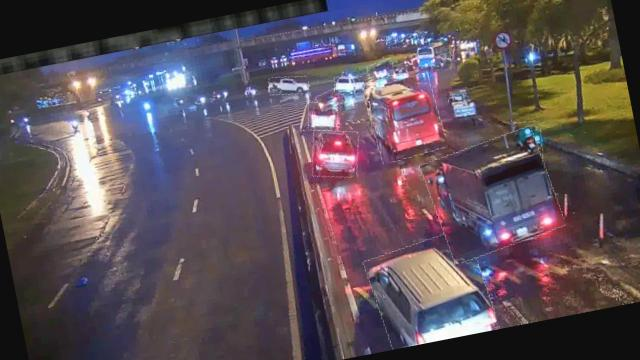Bike: (511, 118, 546, 162)
Bus: (364, 72, 448, 164)
Car: (364, 228, 496, 351), (306, 125, 364, 182), (306, 98, 342, 132), (268, 72, 311, 98), (333, 72, 366, 96), (315, 87, 346, 110), (366, 58, 396, 81)
Truck: (421, 126, 565, 262)
